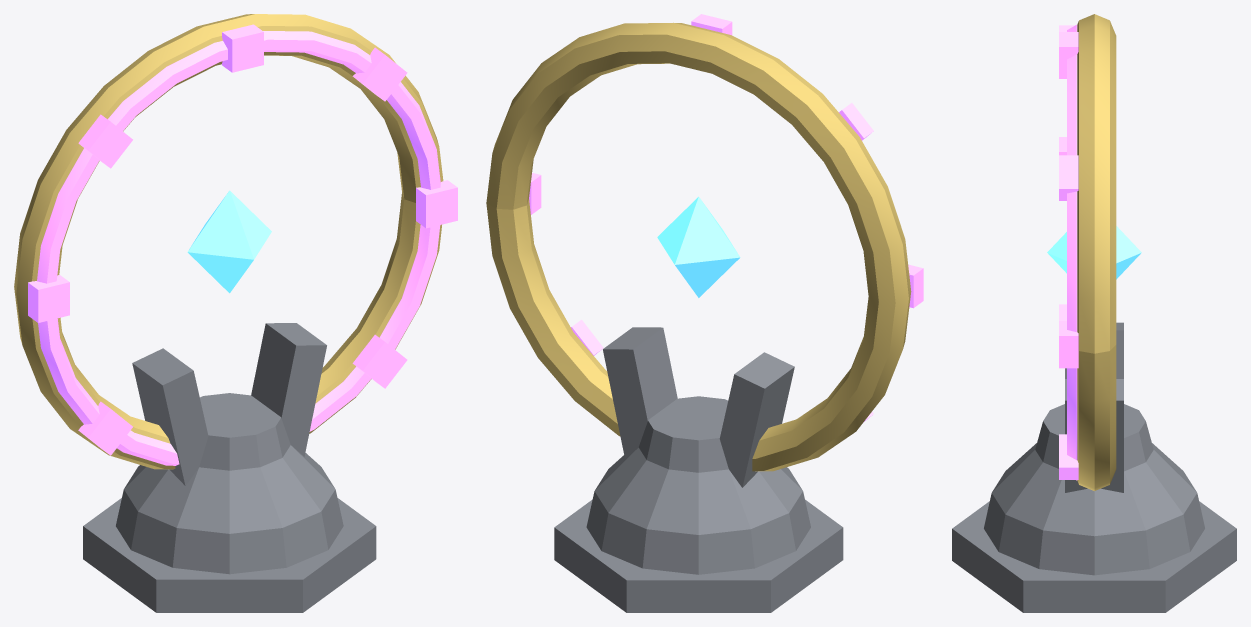
The model's file is pickups-and-collectibles-respawn-ring-93f9ba15__19985.glb.
3 views of the same model, side by side, from view 1: azimuth 30°, elevation 25°; view 2: azimuth 150°, elevation 25°; view 3: azimuth 270°, elevation 25° (orthographic). The views are drawn at different scales.
Parts seen in each view (by area): view 1: base/iron, ring/arcane, ring/gold, core/gem; view 2: base/iron, ring/gold, core/gem, ring/arcane; view 3: base/iron, ring/gold, ring/arcane, core/gem.
Part boxes in pixels (bbox=[...]): base/iron: bbox=[83, 323, 376, 612]; ring/arcane: bbox=[28, 24, 457, 465]; ring/gold: bbox=[14, 14, 443, 469]; core/gem: bbox=[187, 190, 271, 293]; base/iron: bbox=[554, 327, 843, 612]; ring/gold: bbox=[486, 22, 911, 471]; core/gem: bbox=[657, 196, 740, 297]; ring/arcane: bbox=[529, 14, 923, 422]; base/iron: bbox=[952, 322, 1236, 612]; ring/gold: bbox=[1077, 14, 1116, 490]; ring/arcane: bbox=[1059, 24, 1078, 480]; core/gem: bbox=[1047, 226, 1141, 279].
Bounding box in the file's own units: 1.21 × 1.46 × 0.72.
